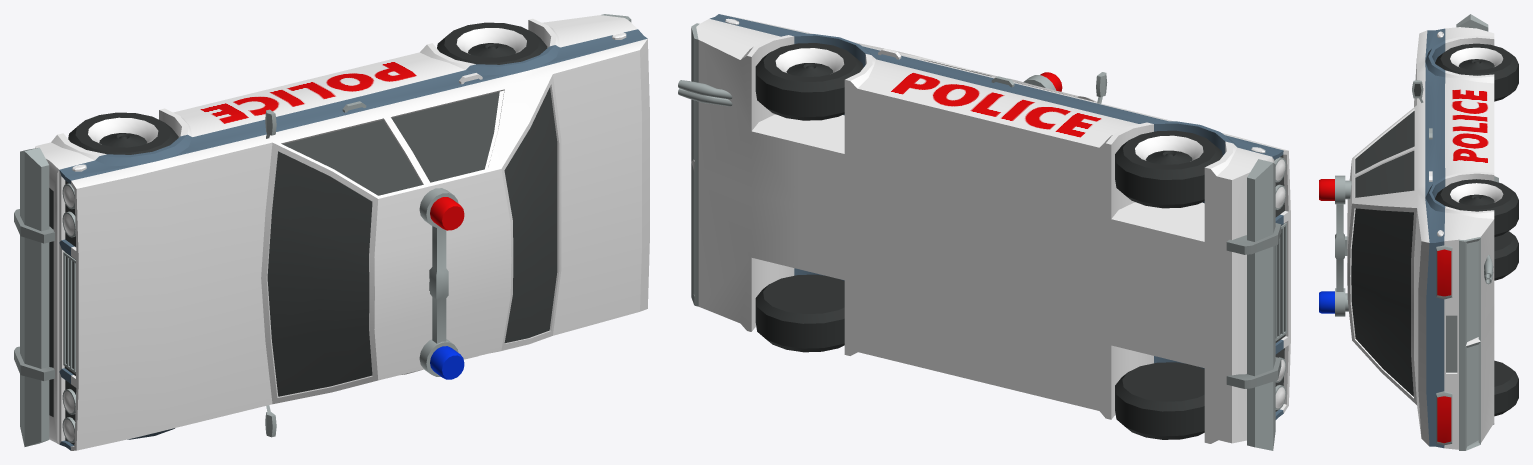
The model's file is car.gltf.
The picture shows the model from 3 angles, left to right: view 1: azimuth 30°, elevation 25°; view 2: azimuth 150°, elevation 25°; view 3: azimuth 270°, elevation 25°; orthographic projection. The views are drawn at different scales.
Visible parts, largest first — view 1: Object, wheel-2, wheel-1; view 2: Object, wheel-2, wheel-1, wheel-4, wheel-3; view 3: Object, wheel-1, wheel-2, wheel-3, wheel-4.
Boxes of the visible parts, x1,y1,x2,y2 form: Object: (14,14,649,450); wheel-2: (68,112,178,154); wheel-1: (437,22,547,64); Object: (678,14,1290,450); wheel-2: (1115,130,1222,208); wheel-1: (755,43,863,120); wheel-4: (1115,362,1204,439); wheel-3: (755,274,844,352); Object: (1319,14,1498,450); wheel-1: (1435,179,1518,237); wheel-2: (1435,43,1518,101); wheel-3: (1494,360,1518,416); wheel-4: (1494,231,1518,280).
Size of the model in its own units: 4.13 by 2.11 by 1.57.
1 material, 1 textured.
